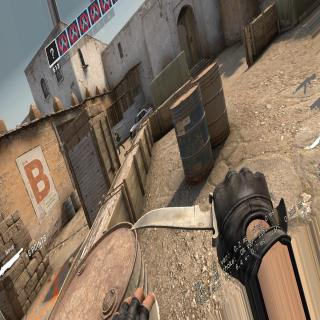CT-Body: (114, 130, 125, 152)
CT-Head: (115, 131, 116, 134)
